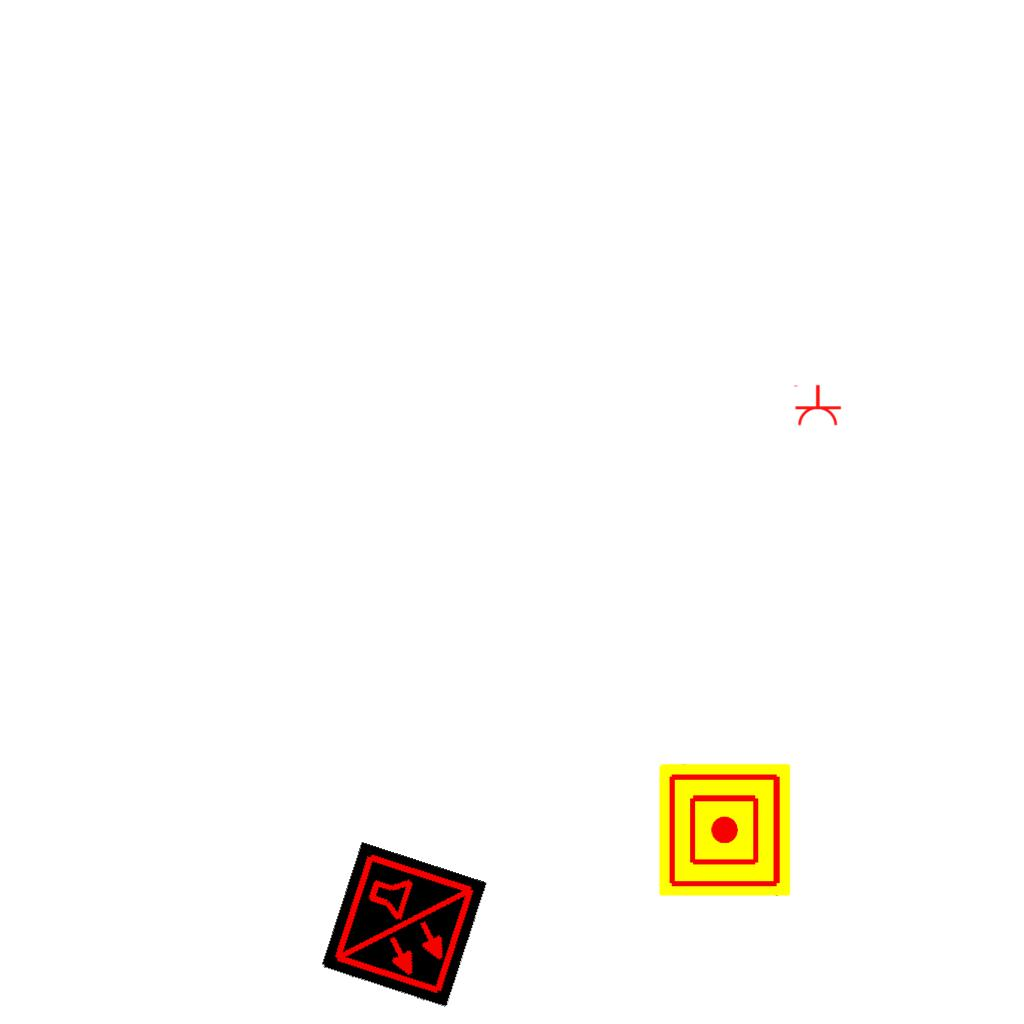NAM-Nichtautomatischer_Melder: (659, 764, 791, 896)
OKW_Multisensormelder_(Kombination_optischer_Rauch-Kahlenmonoxid_Waerme-Melder): (320, 841, 488, 1009)
Schukosteckdose_einfach: (792, 384, 842, 427)
